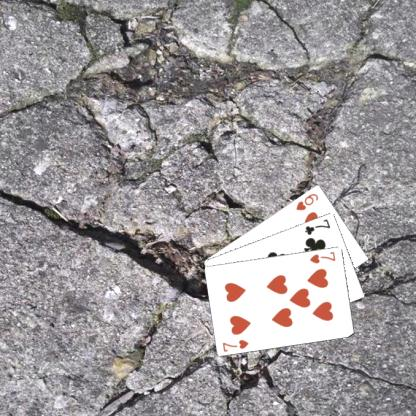6H: (293, 190, 320, 212)
7C: (302, 216, 331, 236)
7H: (307, 248, 337, 264), (220, 337, 250, 353)
